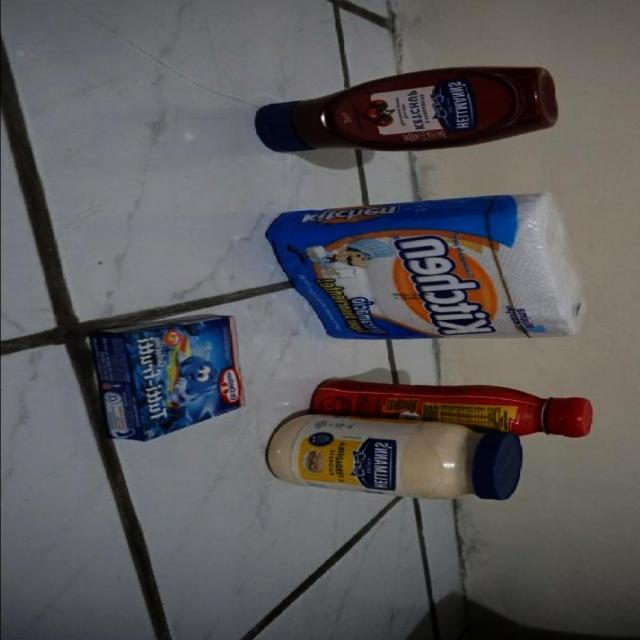ChocolateMilk: (309, 376, 594, 441)
Gelatine: (92, 312, 248, 443)
Ketchup: (252, 64, 558, 156)
Mayonnaise: (264, 412, 524, 501)
Napkin: (270, 193, 587, 342)
